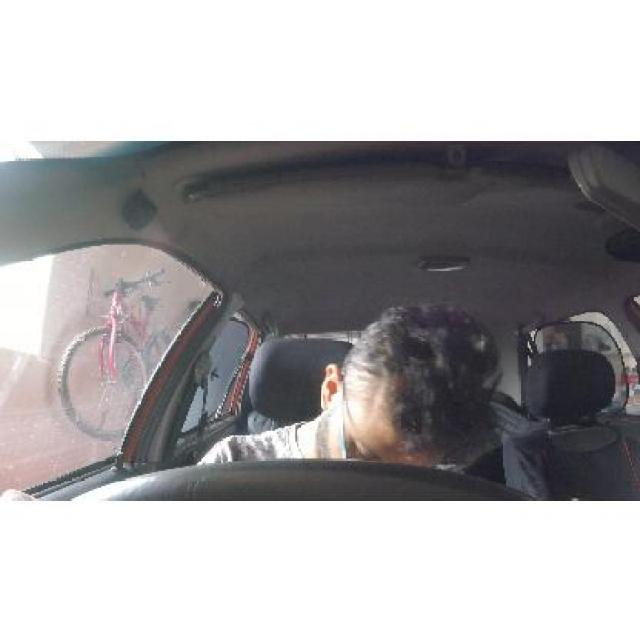drowsy: (301, 294, 495, 457)
